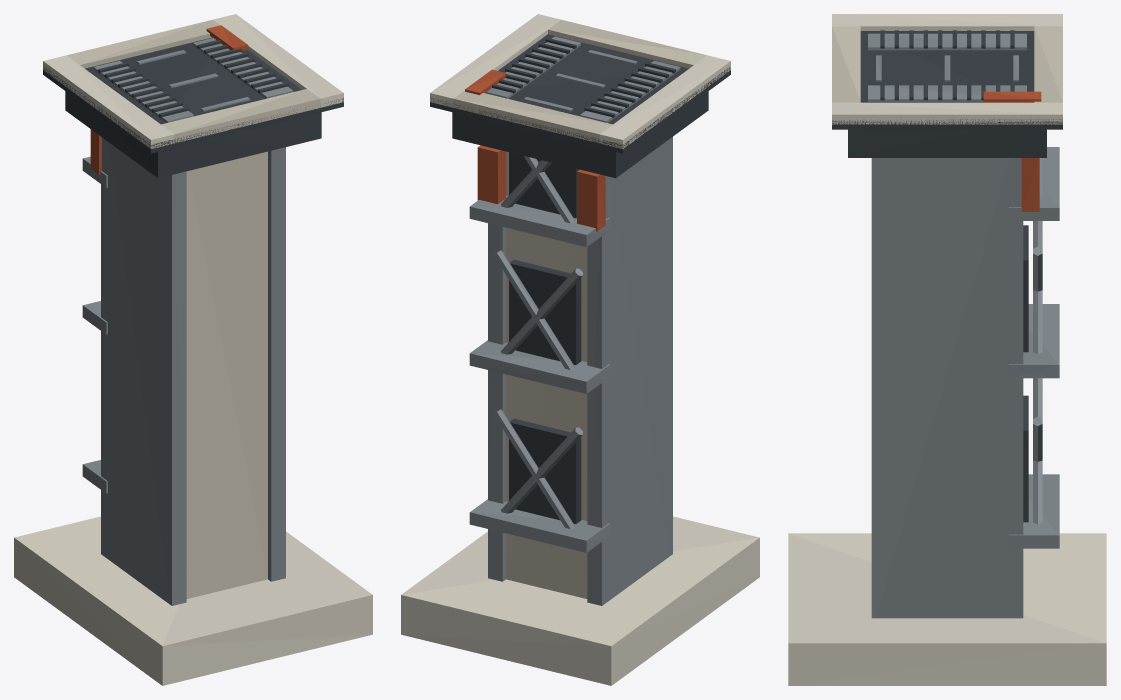
File: load-foundation.glb
The picture shows the model from 3 angles, left to right: view 1: azimuth 30°, elevation 25°; view 2: azimuth 150°, elevation 25°; view 3: azimuth 270°, elevation 25°; orthographic projection. The views are drawn at different scales.
Visible parts, largest first — view 1: load-foundation__metal, load-foundation__ceramic, load-foundation__edge, load-foundation__graphite, load-foundation__oxide; view 2: load-foundation__metal, load-foundation__edge, load-foundation__graphite, load-foundation__ceramic, load-foundation__oxide; view 3: load-foundation__metal, load-foundation__edge, load-foundation__graphite, load-foundation__ceramic, load-foundation__oxide.
Part boxes in pixels (x1,y1,x2,y2): load-foundation__metal: [82, 38, 293, 605]; load-foundation__ceramic: [67, 19, 320, 598]; load-foundation__edge: [14, 14, 372, 685]; load-foundation__graphite: [43, 37, 343, 178]; load-foundation__oxide: [90, 25, 248, 174]; load-foundation__metal: [469, 36, 680, 605]; load-foundation__edge: [401, 14, 759, 685]; load-foundation__graphite: [430, 34, 730, 523]; load-foundation__ceramic: [453, 19, 706, 598]; load-foundation__oxide: [465, 69, 605, 231]; load-foundation__metal: [868, 33, 1059, 618]; load-foundation__edge: [788, 14, 1106, 685]; load-foundation__graphite: [832, 30, 1062, 522]; load-foundation__ceramic: [832, 26, 1062, 102]; load-foundation__oxide: [983, 91, 1041, 211].
Size of the model in its own units: 72 by 174 by 88.
